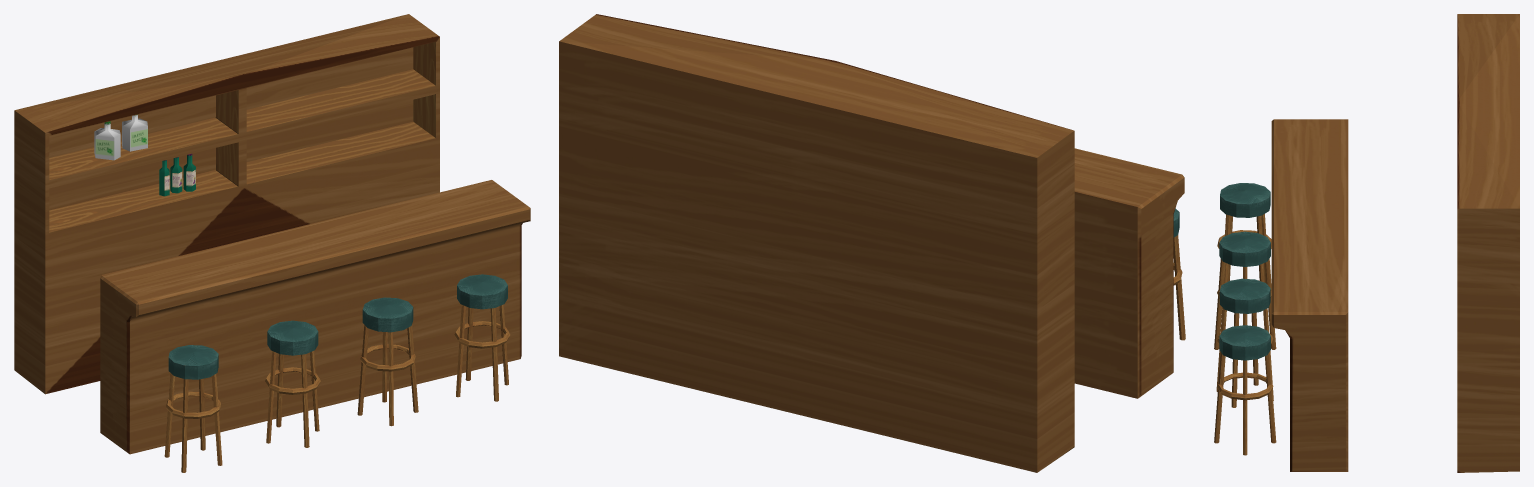
The model's file is bar_counter.fbx.
The picture shows the model from 3 angles, left to right: view 1: azimuth 30°, elevation 25°; view 2: azimuth 150°, elevation 25°; view 3: azimuth 270°, elevation 25°; orthographic projection. The views are drawn at different scales.
Parts seen in each view (by area): view 1: polySurface38; view 2: polySurface38; view 3: polySurface38.
Part boxes in pixels (<box>): polySurface38: <box>14,14,530,472</box>; polySurface38: <box>559,14,1185,472</box>; polySurface38: <box>1214,14,1519,472</box>.
Size of the model in its own units: 300 by 197 by 199.
